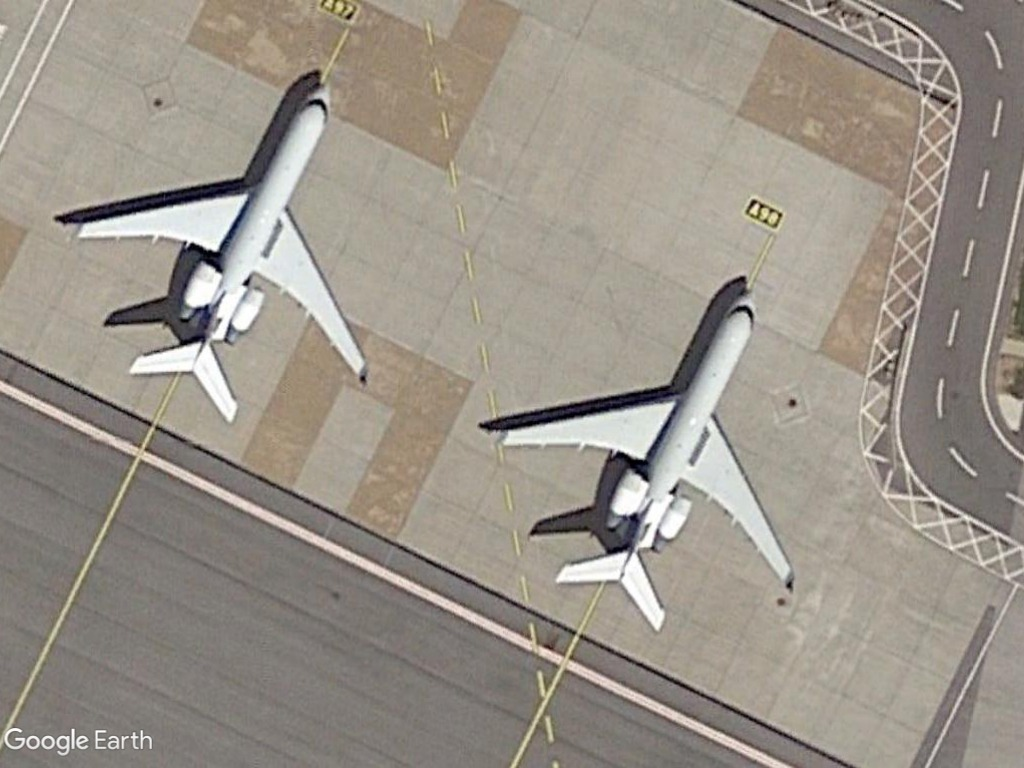chartered: (499, 284, 800, 634), (74, 81, 370, 427)
